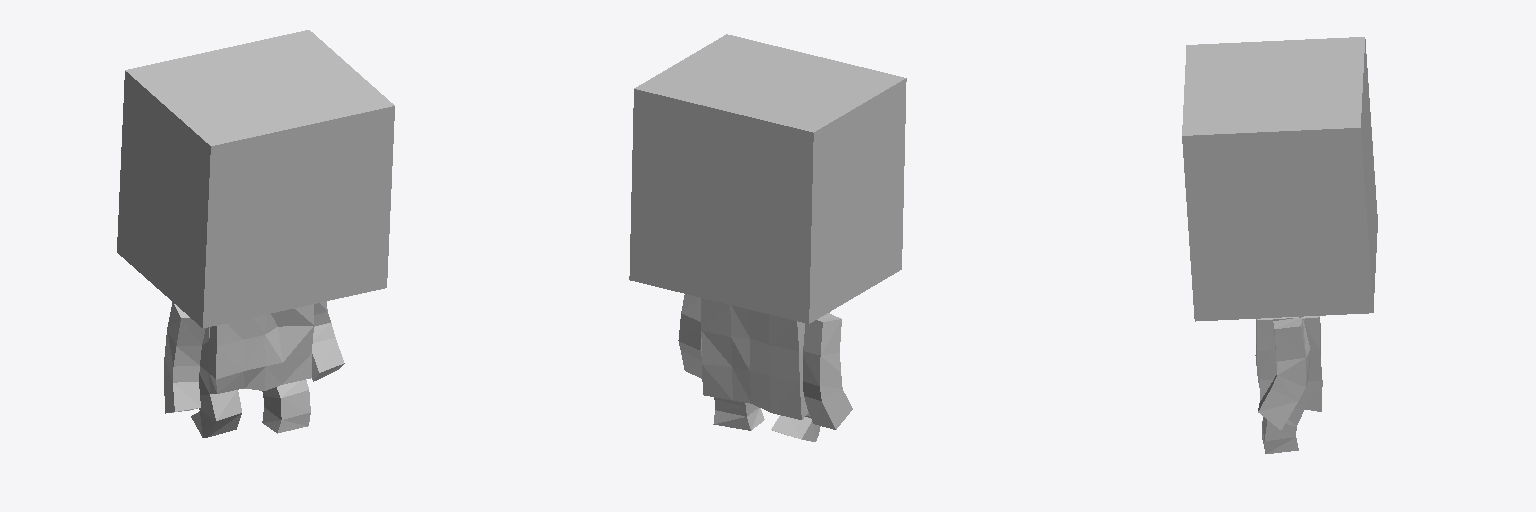
File: boxman-animation-hodba_000007.obj
The picture shows the model from 3 angles: view 1: azimuth 30°, elevation 25°; view 2: azimuth 150°, elevation 25°; view 3: azimuth 270°, elevation 25°; orthographic projection.
Visible parts, largest first — view 1: Cube; view 2: Cube; view 3: Cube.
Boxes of the visible parts, x1,y1,x2,y2 form: Cube: [117, 30, 394, 437]; Cube: [629, 34, 906, 441]; Cube: [1182, 37, 1377, 453].
Size of the model in its own units: 2.1 by 3.77 by 1.9.